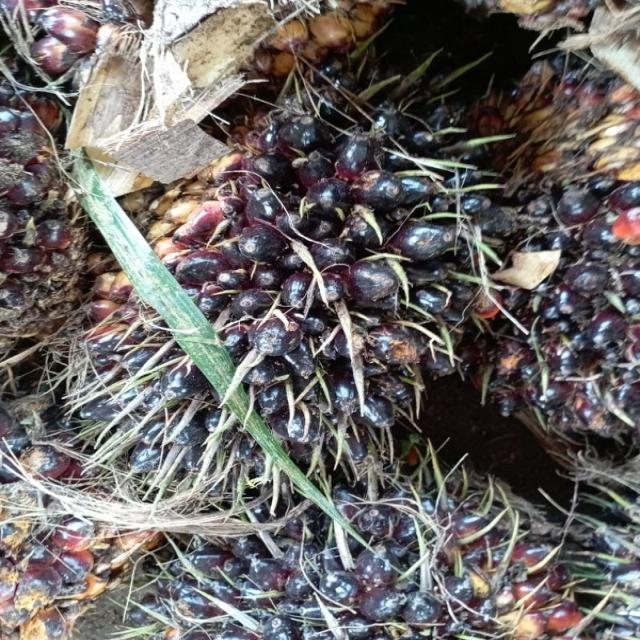fraksi 00: (53, 40, 540, 525)
